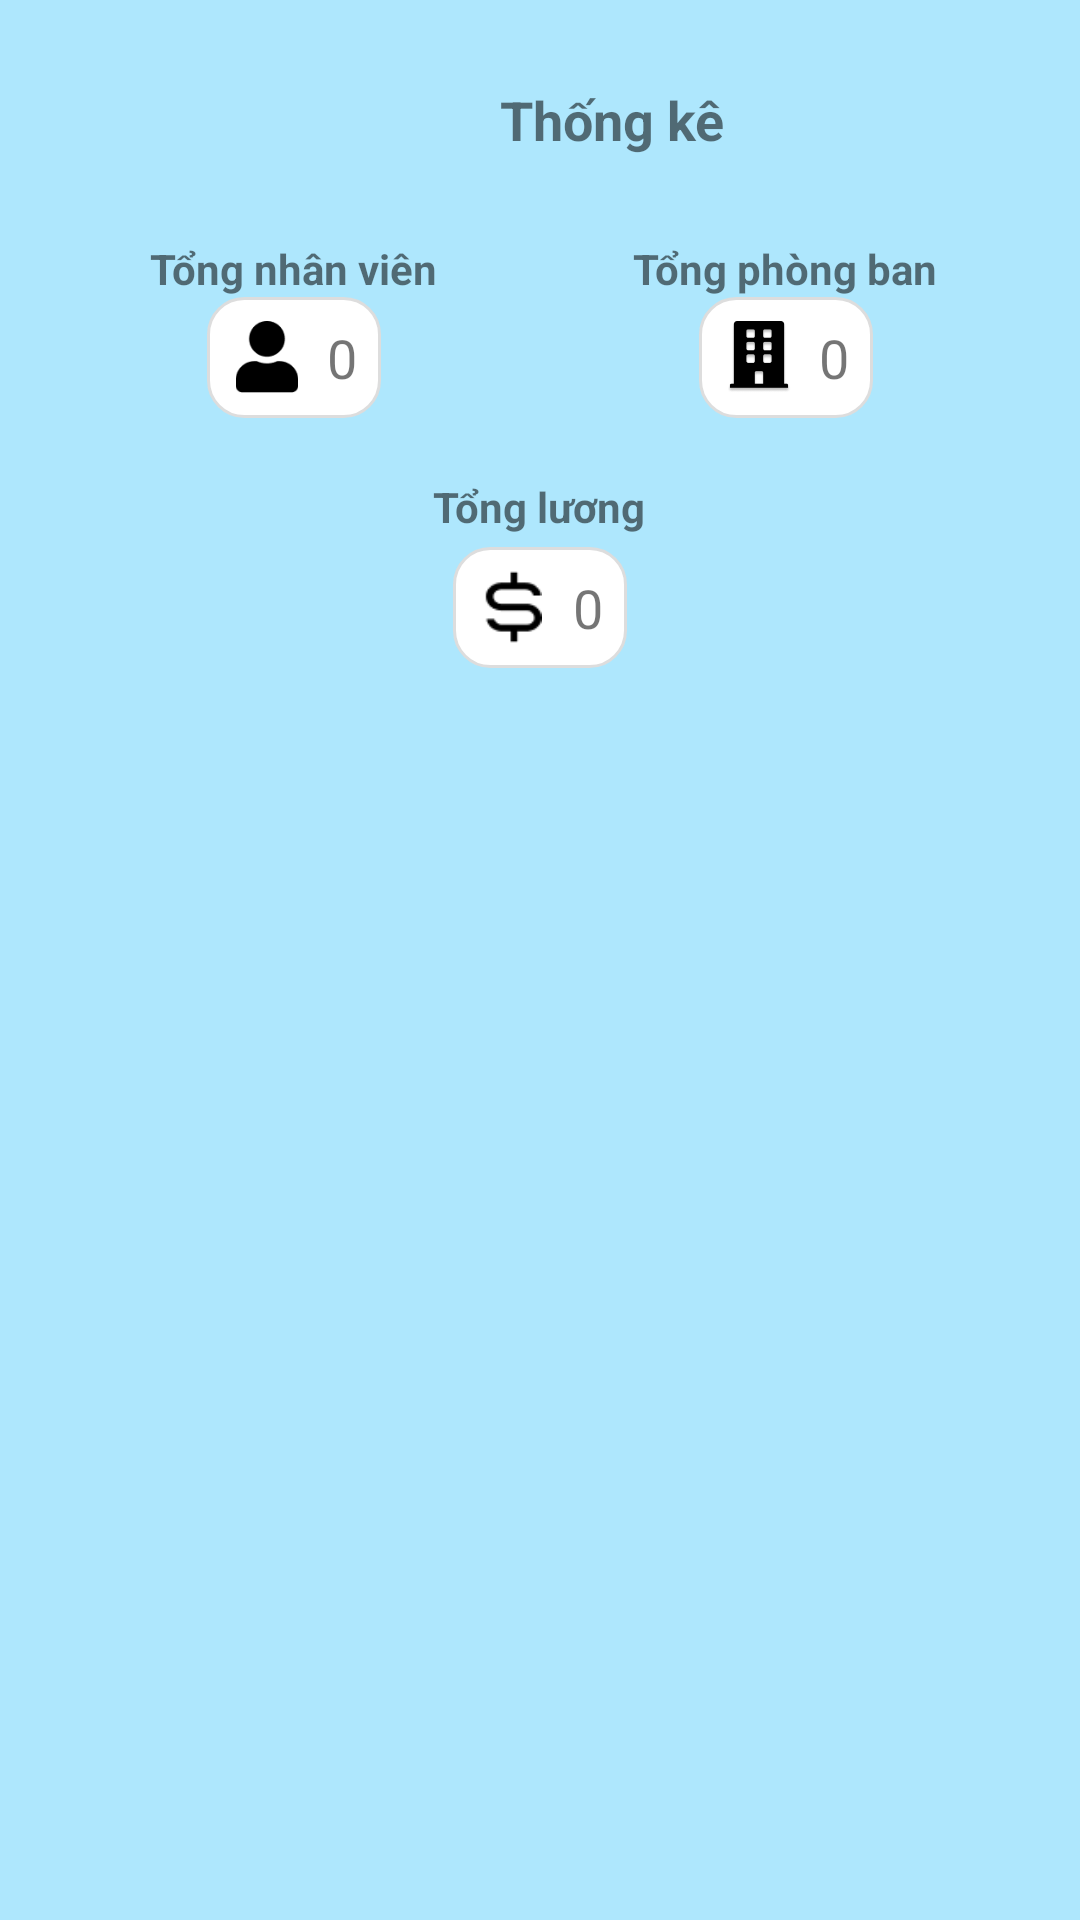

Icons on this 1080 × 1920 Android screen, each with its box as (x1, y1, x2, y2):
Icon tiền: (485, 571, 542, 643)
